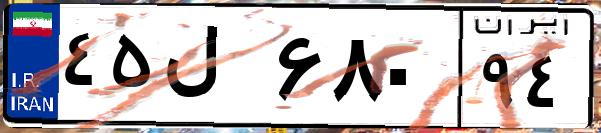0: (385, 28, 445, 110)
4: (57, 26, 110, 100), (525, 38, 570, 115)
5: (110, 28, 158, 98)
6: (270, 28, 330, 110)
8: (330, 28, 385, 110)
9: (475, 38, 525, 113)
ل: (158, 20, 270, 120)
